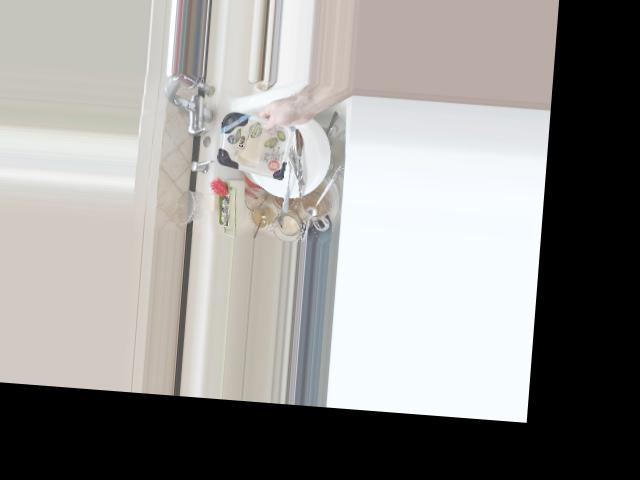cheese: (210, 92, 308, 179)
